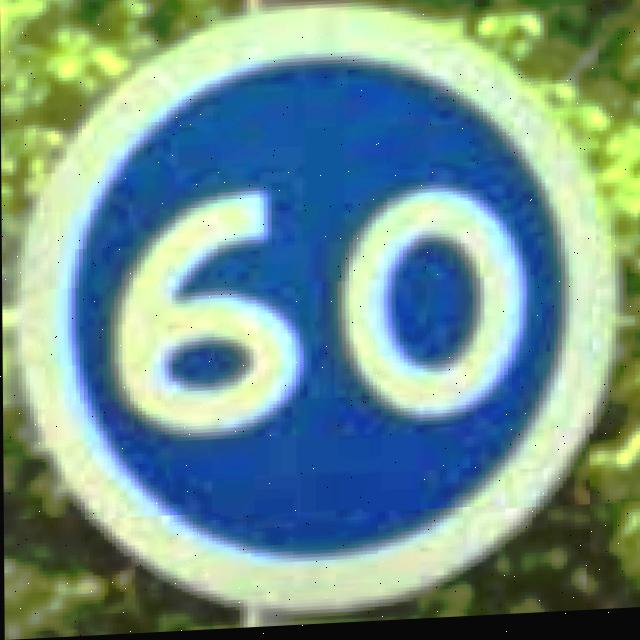min60: (8, 0, 621, 630)
